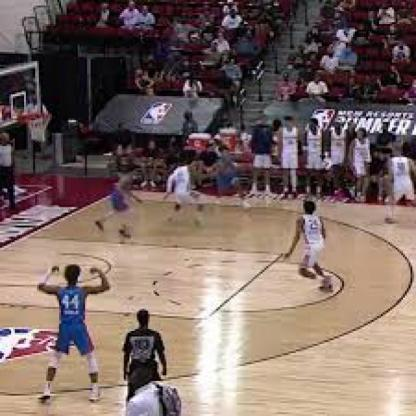rim: (22, 111, 53, 122)
